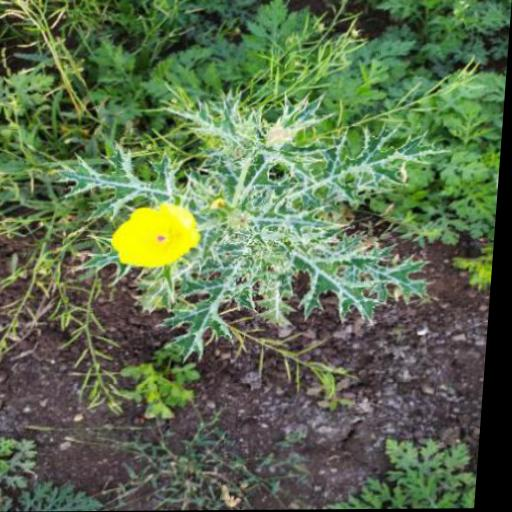weed: (10, 0, 512, 320)
